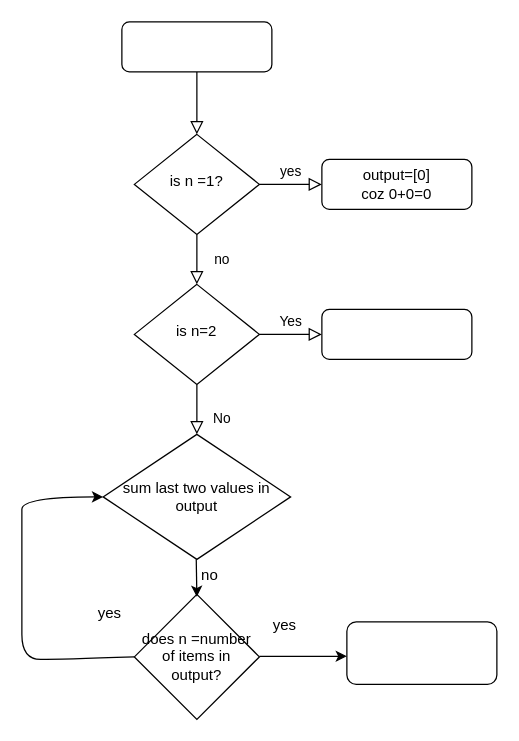
Some shapes in this 519 by 741 pixel diagram are drawn without their labels. The centre of each missing label's shape, as x and y in pixels:
output=[0,1]: pixel 396 333
return output: pixel 421 652
Start output=[]: pixel 196 46
